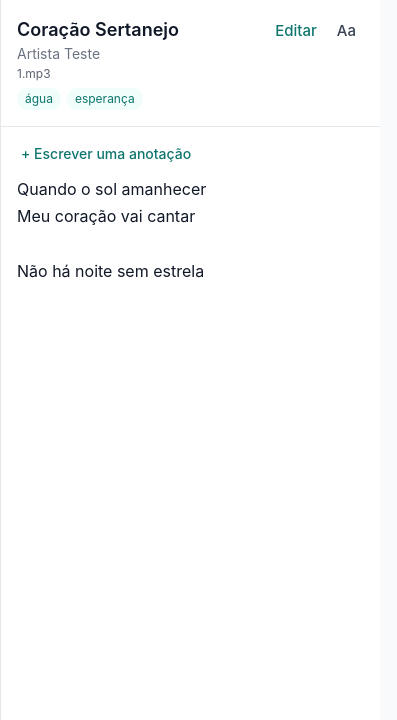
Test case: LyricsPanel — modo de edição (V4 F10) › o som discorda da etiqueta (V9) › aceitar o som preenche os nomes e não encosta na letra
Expected: the text with test id "lyrics-body" is shown, top-left (17, 179), bottom-right (206, 281)
Click the button "Editar". click: (296, 31)
box: top-left (267, 16), bottom-right (325, 46)
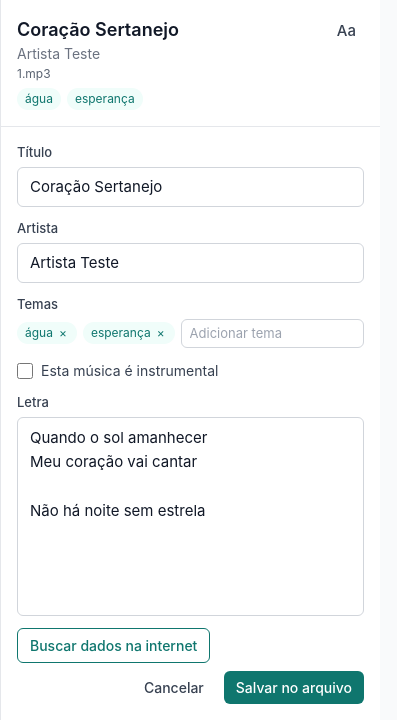
Click the button "Buscar dados na internet". click: (114, 646)
box: top-left (17, 628), bottom-right (210, 663)
(page scrolled)
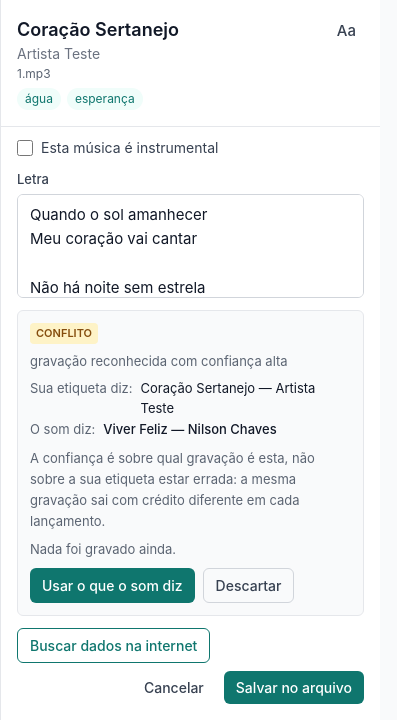
Click the button "Usar o que o som diz". click: (112, 585)
box: top-left (30, 568), bottom-right (195, 602)
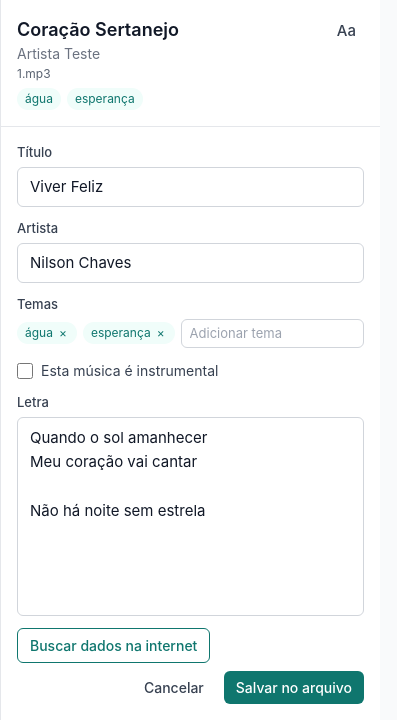
Result: the field labelled "Título" holds "Viver Feliz" at top-left (17, 166), bottom-right (364, 207)
Result: the field labelled "Artista" holds "Nilson Chaves" at top-left (17, 242), bottom-right (364, 283)
